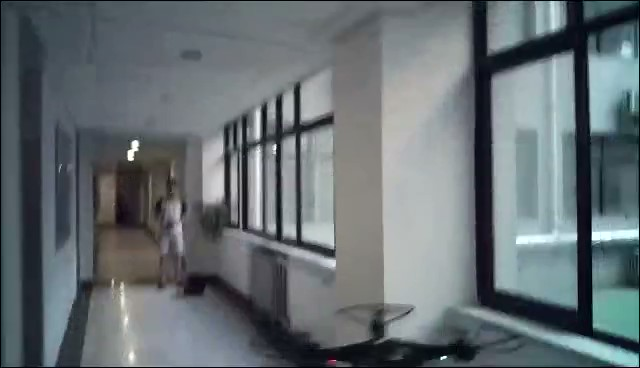drone: (251, 303, 525, 368)
person: (154, 177, 189, 290)
